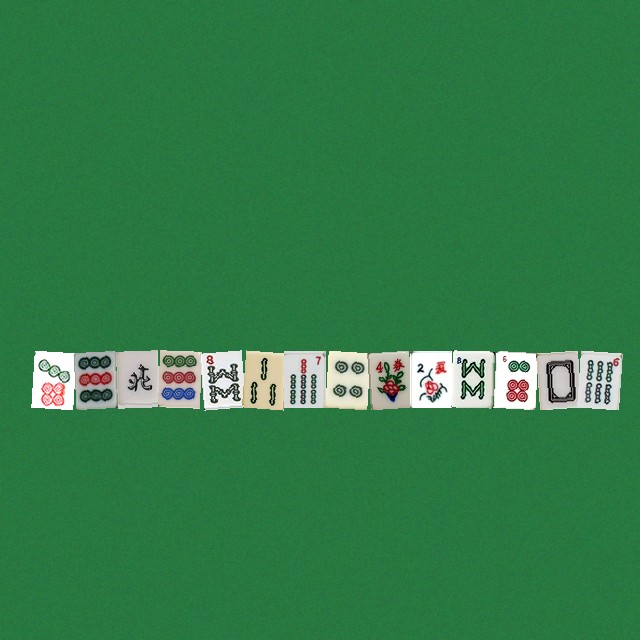tile: (31, 350, 73, 407), (73, 350, 115, 407), (115, 350, 157, 407), (157, 350, 199, 407), (199, 350, 241, 407), (241, 350, 283, 407), (283, 350, 325, 407), (325, 350, 367, 407), (367, 350, 409, 407), (409, 350, 451, 407), (451, 350, 493, 407), (493, 350, 535, 407), (535, 350, 577, 407), (577, 350, 619, 407)
